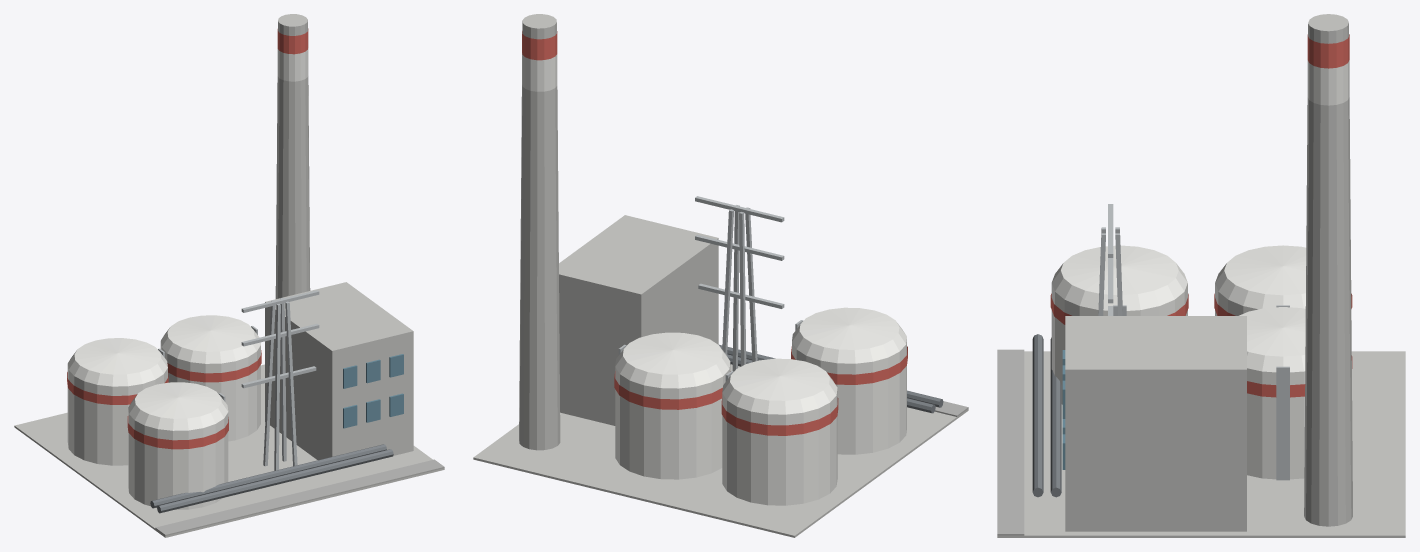
File: oil-power.fbx
3 views of the same model, side by side, from view 1: azimuth 30°, elevation 25°; view 2: azimuth 150°, elevation 25°; view 3: azimuth 270°, elevation 25° (orthographic). The views are drawn at different scales.
Visible parts, largest first — view 1: oil-power; view 2: oil-power; view 3: oil-power.
Part boxes in pixels (x1,y1,x2,y2): oil-power: (14, 14, 444, 537); oil-power: (473, 14, 968, 537); oil-power: (997, 14, 1405, 537).
Size of the model in its own units: 960 by 1206 by 900.
